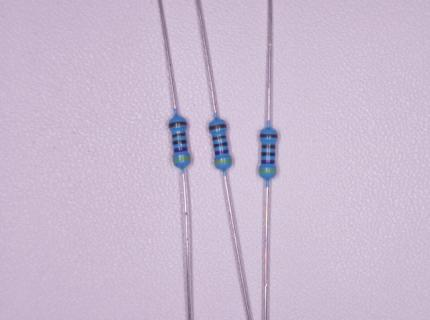Black band: (214, 142, 228, 148), (172, 140, 187, 145), (261, 152, 275, 156)
Brown band: (169, 121, 187, 128), (208, 124, 227, 130), (212, 135, 227, 141), (172, 132, 186, 138), (260, 134, 278, 138), (262, 144, 276, 149)
Violet band: (215, 149, 229, 155), (261, 159, 275, 164), (174, 148, 188, 153)
Yellow band: (214, 159, 232, 165), (173, 157, 191, 162), (259, 169, 277, 173)
